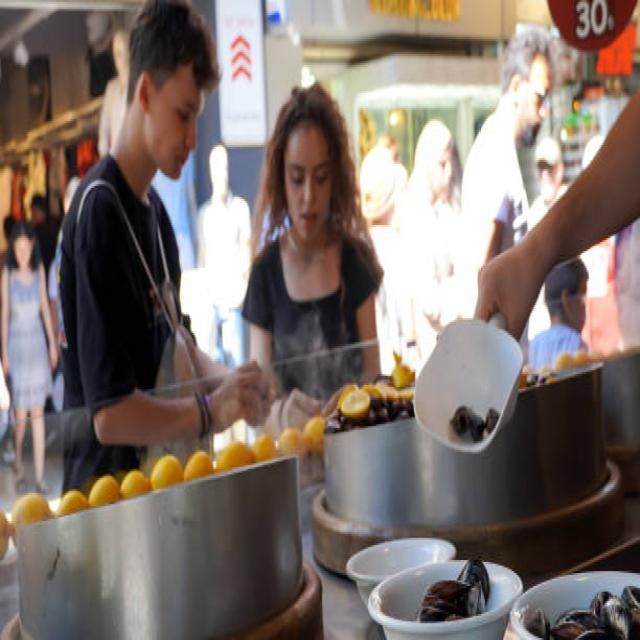Emperan: (0, 82, 637, 640)
